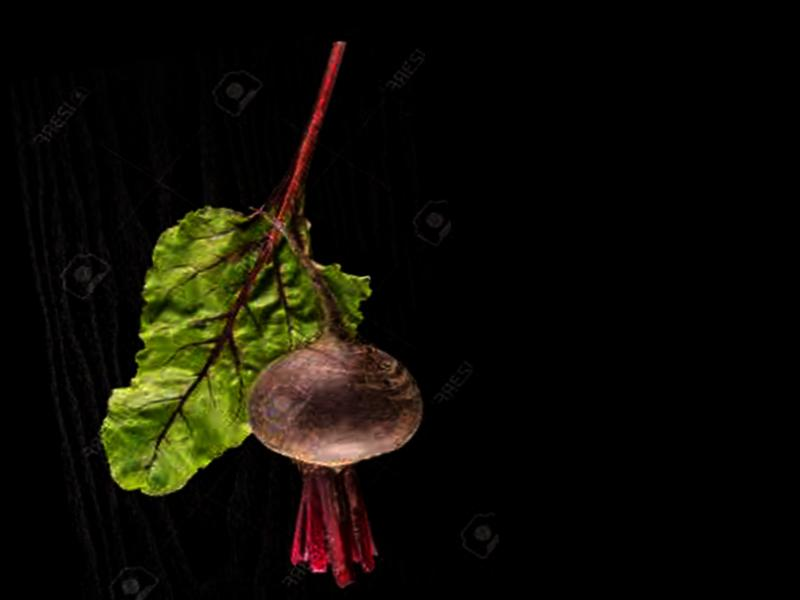Beet: (217, 186, 448, 598)
